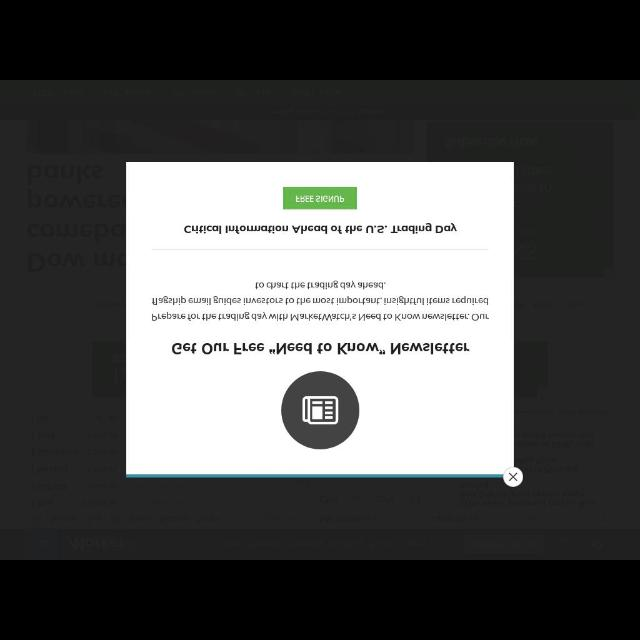icon: (280, 370, 362, 452), (503, 467, 522, 488)
text: (151, 278, 493, 322), (28, 166, 124, 272), (183, 220, 459, 236), (170, 340, 472, 354)
textbutton: (282, 186, 358, 210)
toolbar: (1, 530, 638, 558)
